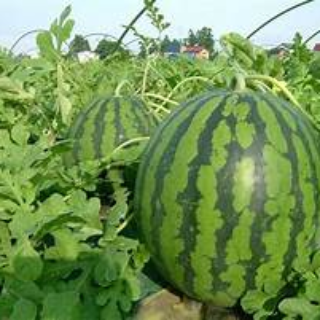dua_hau: (132, 87, 320, 310)
